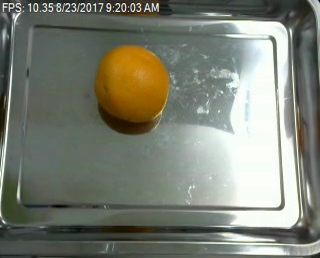Orange: (94, 44, 169, 121)
